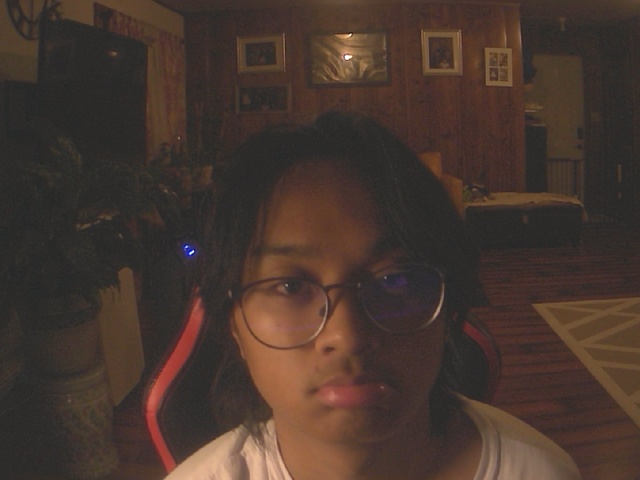sad: (199, 105, 482, 436)
